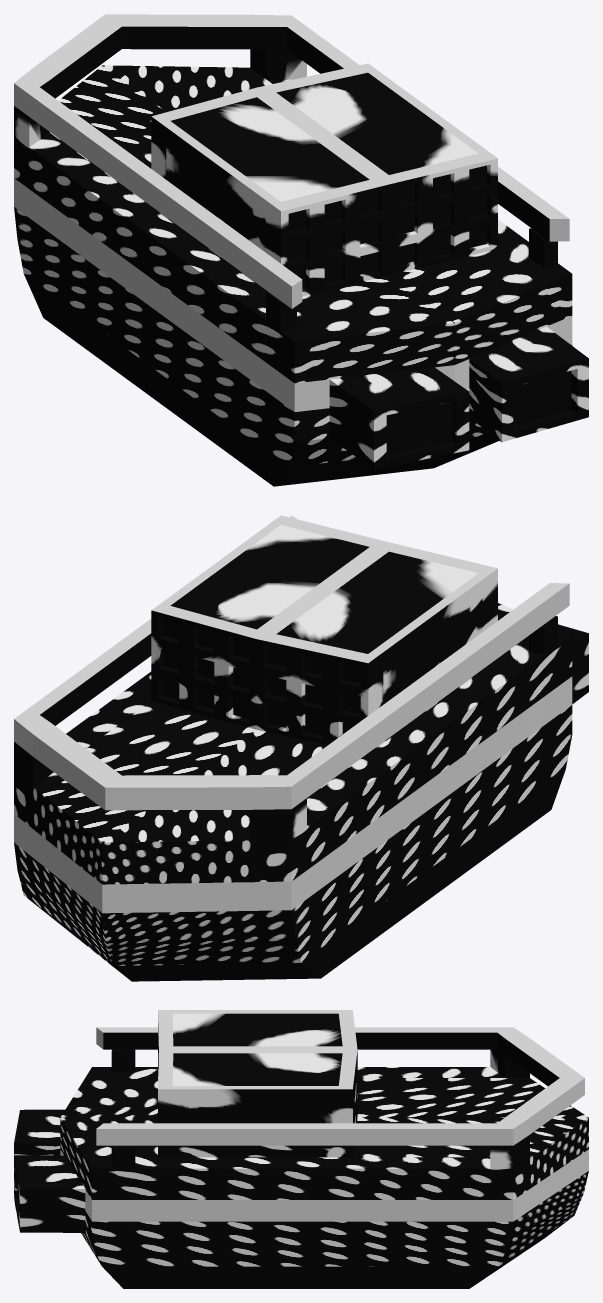
File: BLACK_Destroyer.fbx
3 views of the same model, one above another, from view 1: azimuth 30°, elevation 25°; view 2: azimuth 150°, elevation 25°; view 3: azimuth 270°, elevation 25° (orthographic). The views are drawn at different scales.
Parts seen in each view (by area): view 1: Cube; view 2: Cube; view 3: Cube.
Boxes of the visible parts, <box> form: Cube: <box>14,14,588,486</box>; Cube: <box>14,515,588,981</box>; Cube: <box>14,1010,588,1288</box>.
Size of the model in its own units: 362 by 313 by 866.
